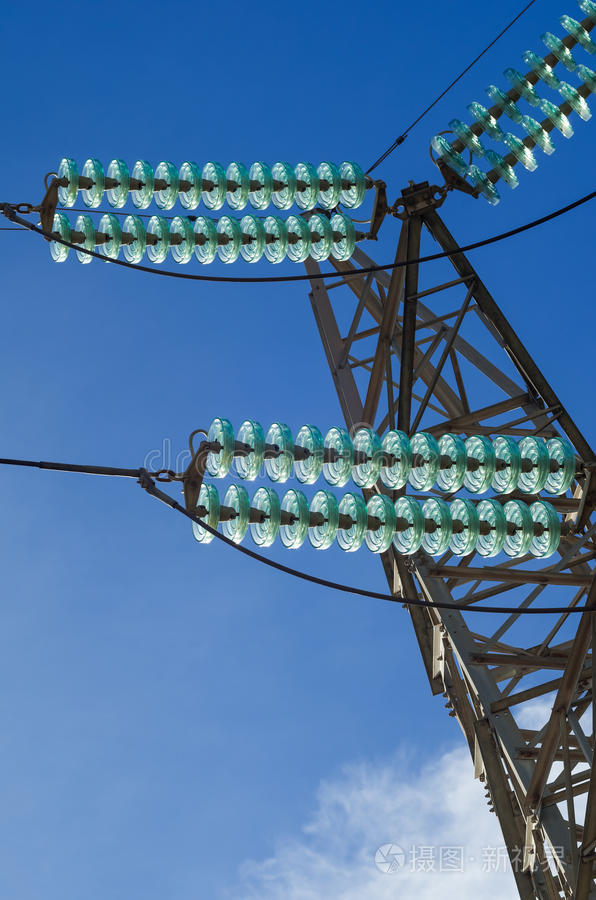insulator: (197, 411, 577, 557), (49, 159, 373, 269), (436, 6, 596, 208)
